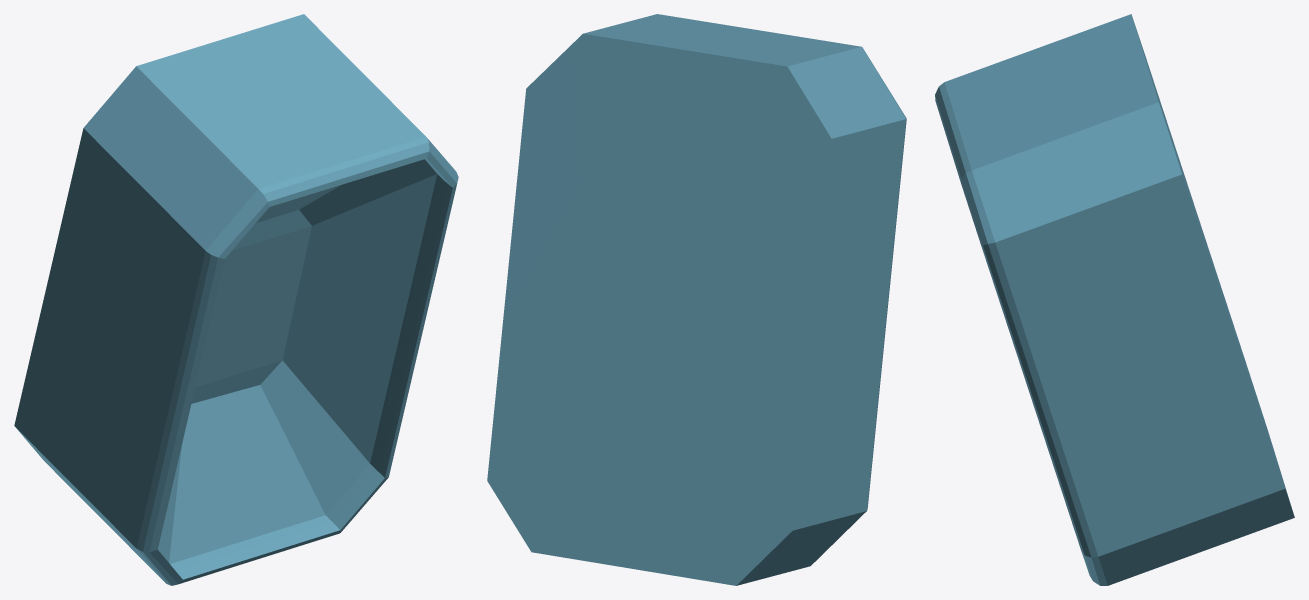
Rendered from BR1_8shapes_Emerald_Classic_Metal.001 3.glb.
The picture shows the model from 3 angles, left to right: view 1: azimuth 30°, elevation 25°; view 2: azimuth 150°, elevation 25°; view 3: azimuth 270°, elevation 25°; orthographic projection. The views are drawn at different scales.
Visible parts, largest first — view 1: BR1_8shapes_Emerald_Classic_Metal.001; view 2: BR1_8shapes_Emerald_Classic_Metal.001; view 3: BR1_8shapes_Emerald_Classic_Metal.001.
Part boxes in pixels (left/top/right/bottom): BR1_8shapes_Emerald_Classic_Metal.001: left=14, top=14, right=458, bottom=585; BR1_8shapes_Emerald_Classic_Metal.001: left=487, top=14, right=906, bottom=585; BR1_8shapes_Emerald_Classic_Metal.001: left=935, top=14, right=1294, bottom=585.
Size of the model in its own units: 0.4101 by 0.6274 by 0.4226.
